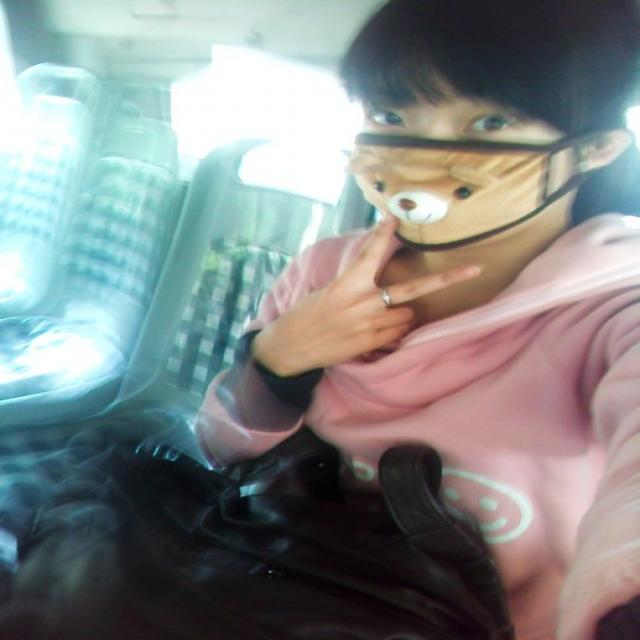mask: (354, 66, 565, 248)
